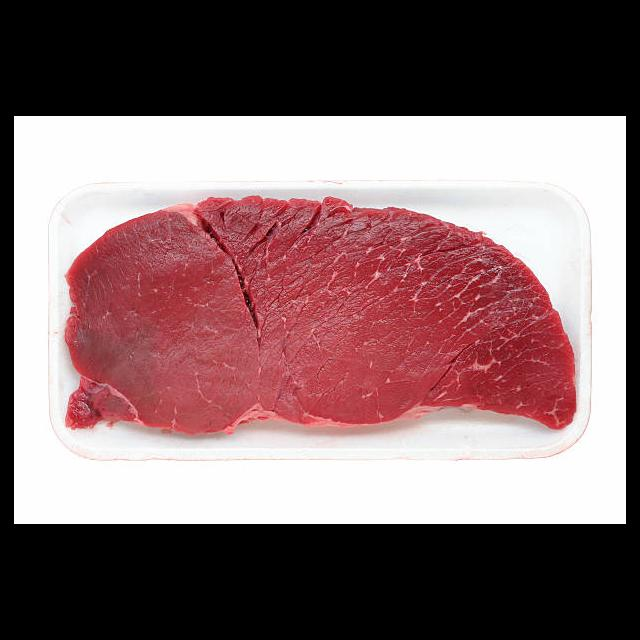beef: (61, 193, 578, 434)
